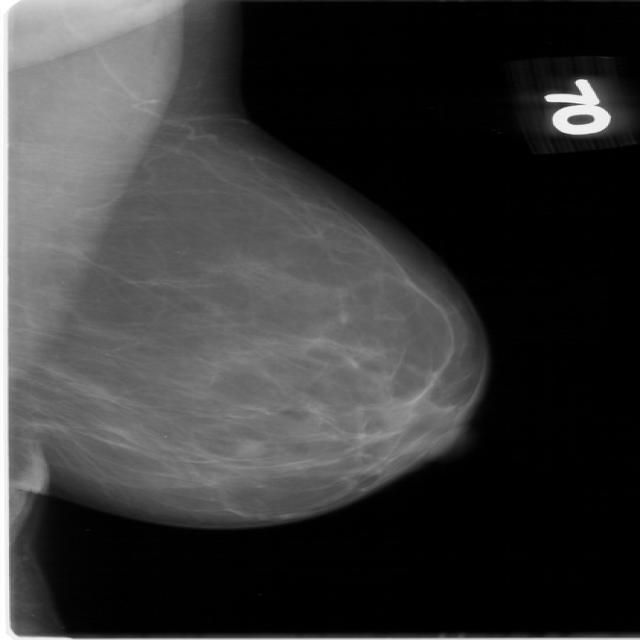tumour: (233, 437, 265, 458)
